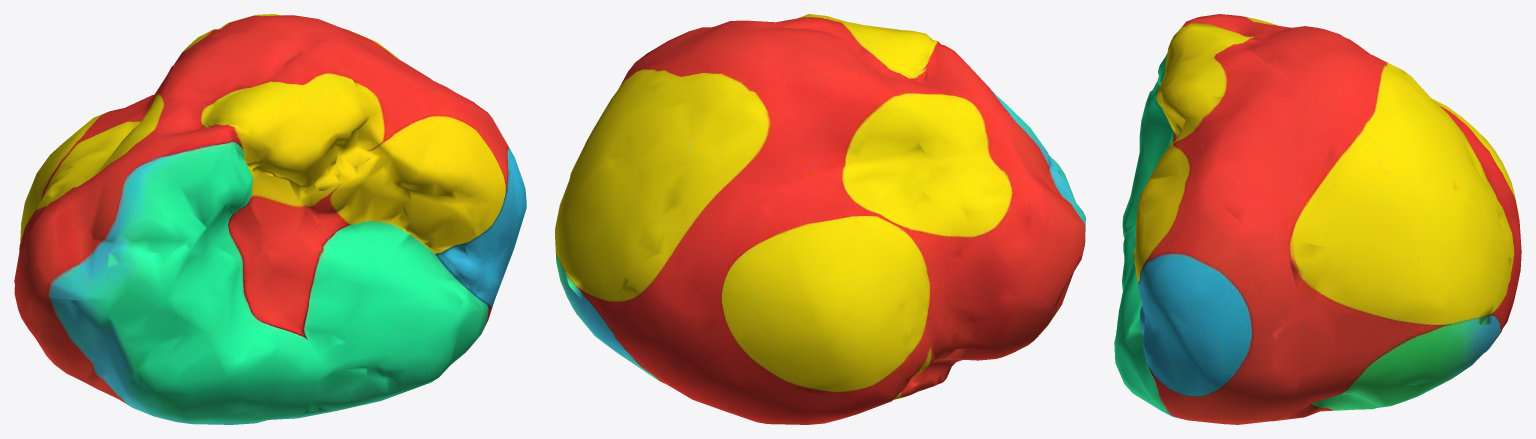
File: clay-rock.glb
3 views of the same model, side by side, from view 1: azimuth 30°, elevation 25°; view 2: azimuth 150°, elevation 25°; view 3: azimuth 270°, elevation 25° (orthographic).
Size of the model in its own units: 1.91 by 1.29 by 1.43.
1 material, 1 textured.
